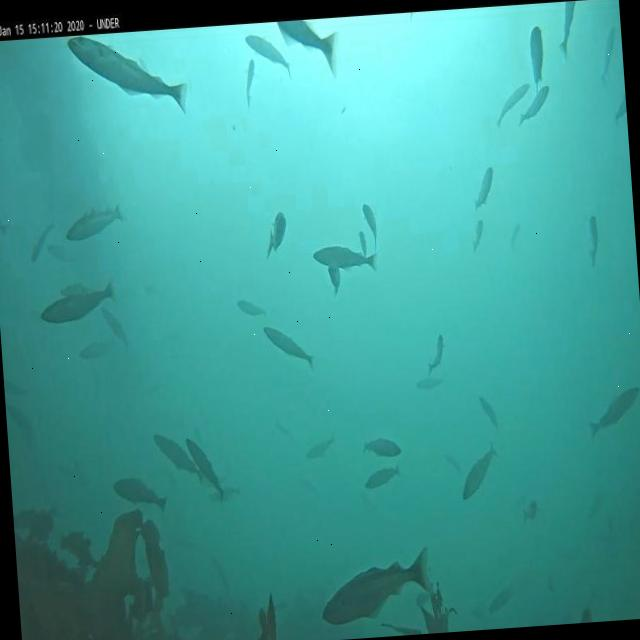fish: (66, 30, 190, 124), (315, 543, 435, 628), (275, 16, 341, 84), (38, 274, 118, 325), (152, 426, 206, 491), (186, 434, 226, 506), (588, 383, 640, 437), (242, 30, 292, 84), (262, 322, 315, 372), (112, 474, 168, 520), (64, 202, 125, 243), (458, 442, 500, 500), (312, 242, 378, 274), (492, 81, 532, 126), (100, 301, 134, 353), (554, 1, 583, 56), (596, 24, 618, 87), (526, 24, 546, 92), (518, 85, 552, 122), (29, 223, 58, 264), (362, 462, 402, 490), (75, 335, 118, 361), (471, 166, 494, 212), (362, 435, 402, 461), (264, 210, 288, 253), (304, 434, 336, 462), (426, 332, 446, 376), (586, 213, 602, 265), (46, 242, 80, 266), (361, 202, 378, 250), (236, 296, 268, 320), (242, 60, 257, 110), (58, 279, 92, 300), (479, 392, 498, 428), (520, 497, 540, 526), (326, 262, 342, 298), (414, 374, 444, 392), (470, 218, 484, 252), (357, 228, 370, 256)
